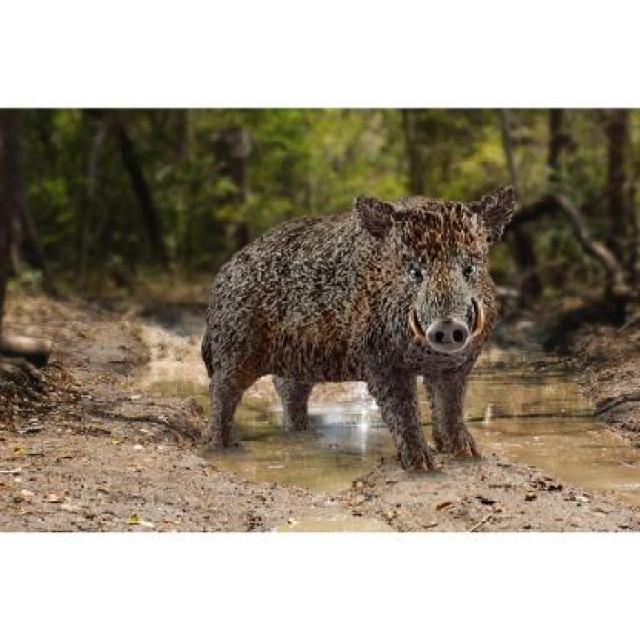wildboar: (189, 179, 528, 476)
